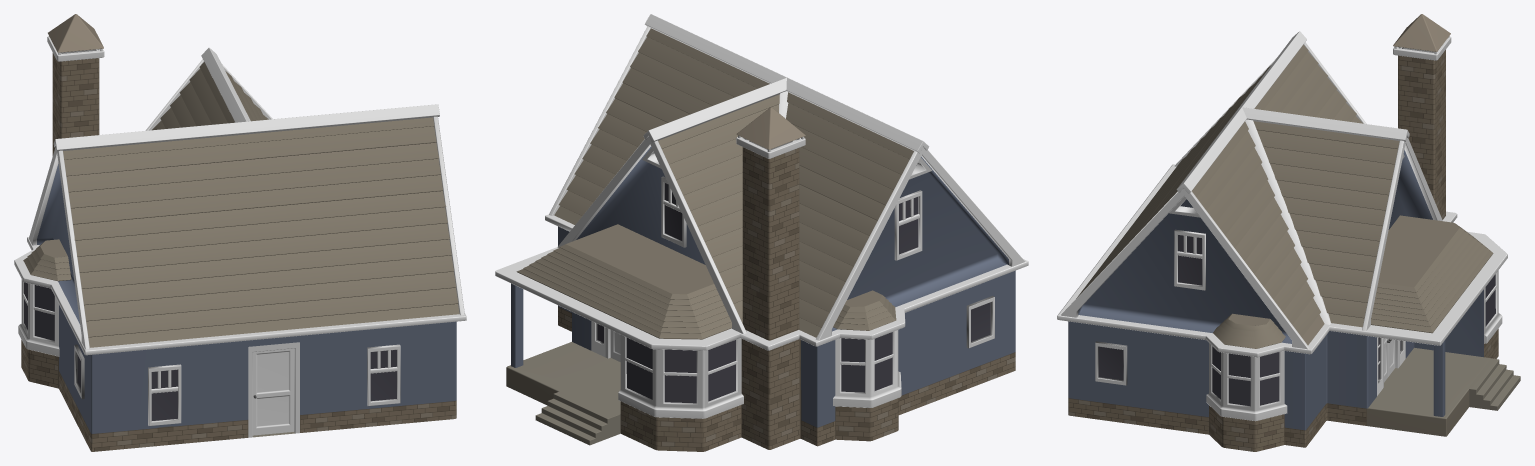
Rendered from housed.glb.
3 views of the same model, side by side, from view 1: azimuth 30°, elevation 25°; view 2: azimuth 150°, elevation 25°; view 3: azimuth 270°, elevation 25° (orthographic). The views are drawn at different scales.
Visible parts, largest first — view 1: node_id30; view 2: node_id30; view 3: node_id30.
Boxes of the visible parts, bbox=[...] form: node_id30: bbox=[14, 14, 466, 451]; node_id30: bbox=[495, 14, 1028, 451]; node_id30: bbox=[1057, 14, 1520, 451].
Bounding box in the file's own units: 0.541 × 0.4107 × 0.5602.
Materials: 1 (1 with a texture image).
